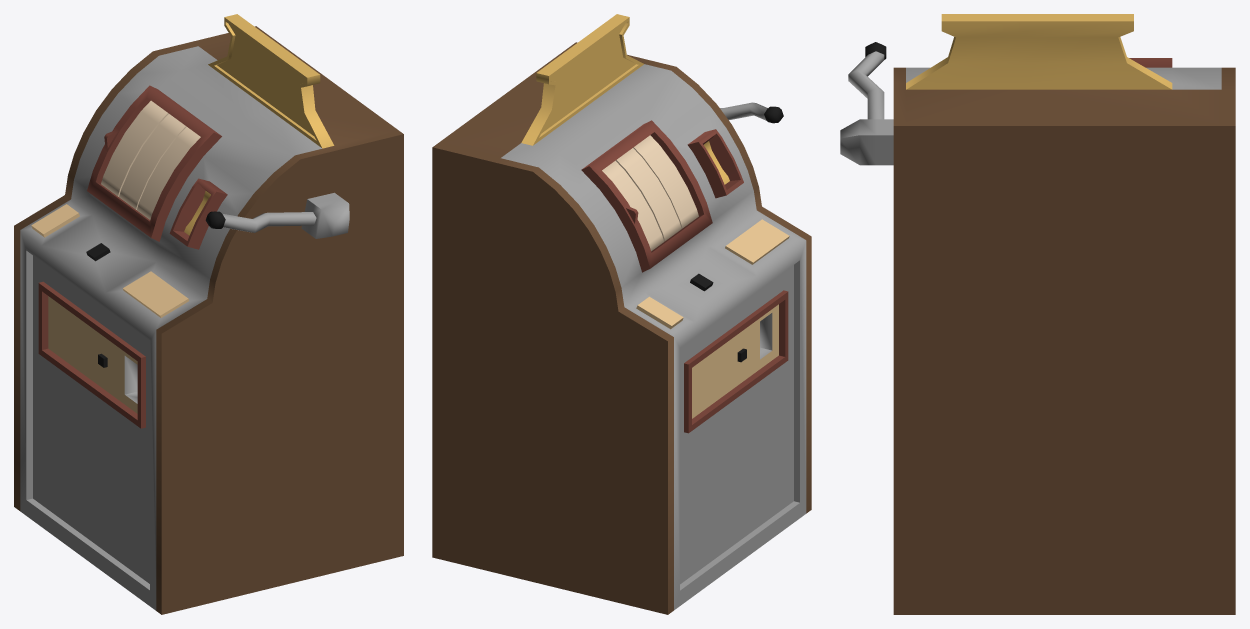
The model's file is slotMachine.fbx.
3 renders of one model, left to right at view 1: azimuth 30°, elevation 25°; view 2: azimuth 150°, elevation 25°; view 3: azimuth 270°, elevation 25°, orthographic. The views are drawn at different scales.
Visible parts, largest first — view 1: Cube.009; view 2: Cube.009; view 3: Cube.009.
Boxes of the visible parts, bbox=[...] form: Cube.009: bbox=[14, 14, 403, 614]; Cube.009: bbox=[432, 14, 811, 614]; Cube.009: bbox=[840, 14, 1235, 614].
Bounding box in the file's own units: 81.2 × 154 × 99.07.
